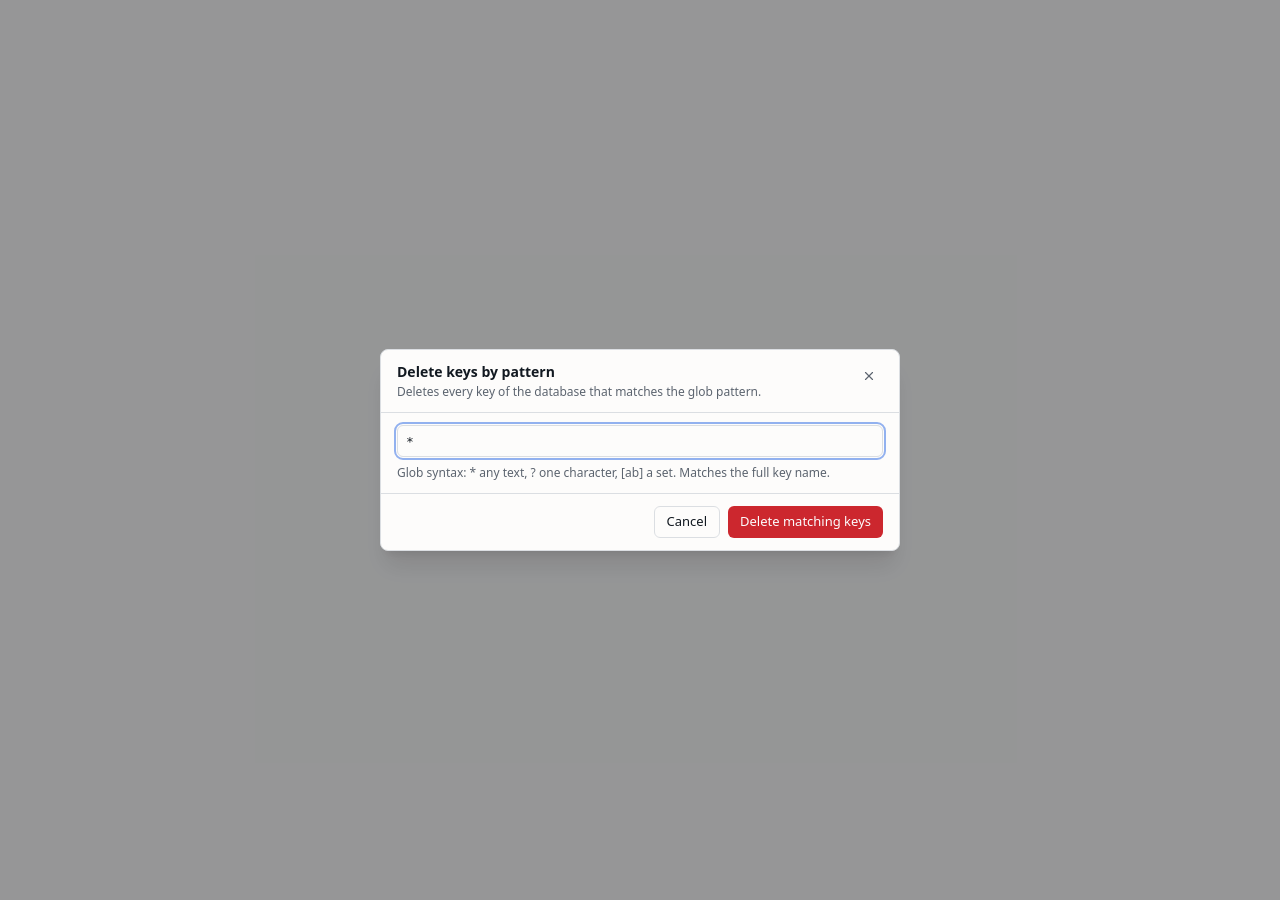
it: DeleteByPatternDialog › suggests * on a database and blocks an empty pattern
This screenshot has width=1280, height=900.
Clear the field named "Pattern". click: (640, 441)
box: [397,425,883,457]
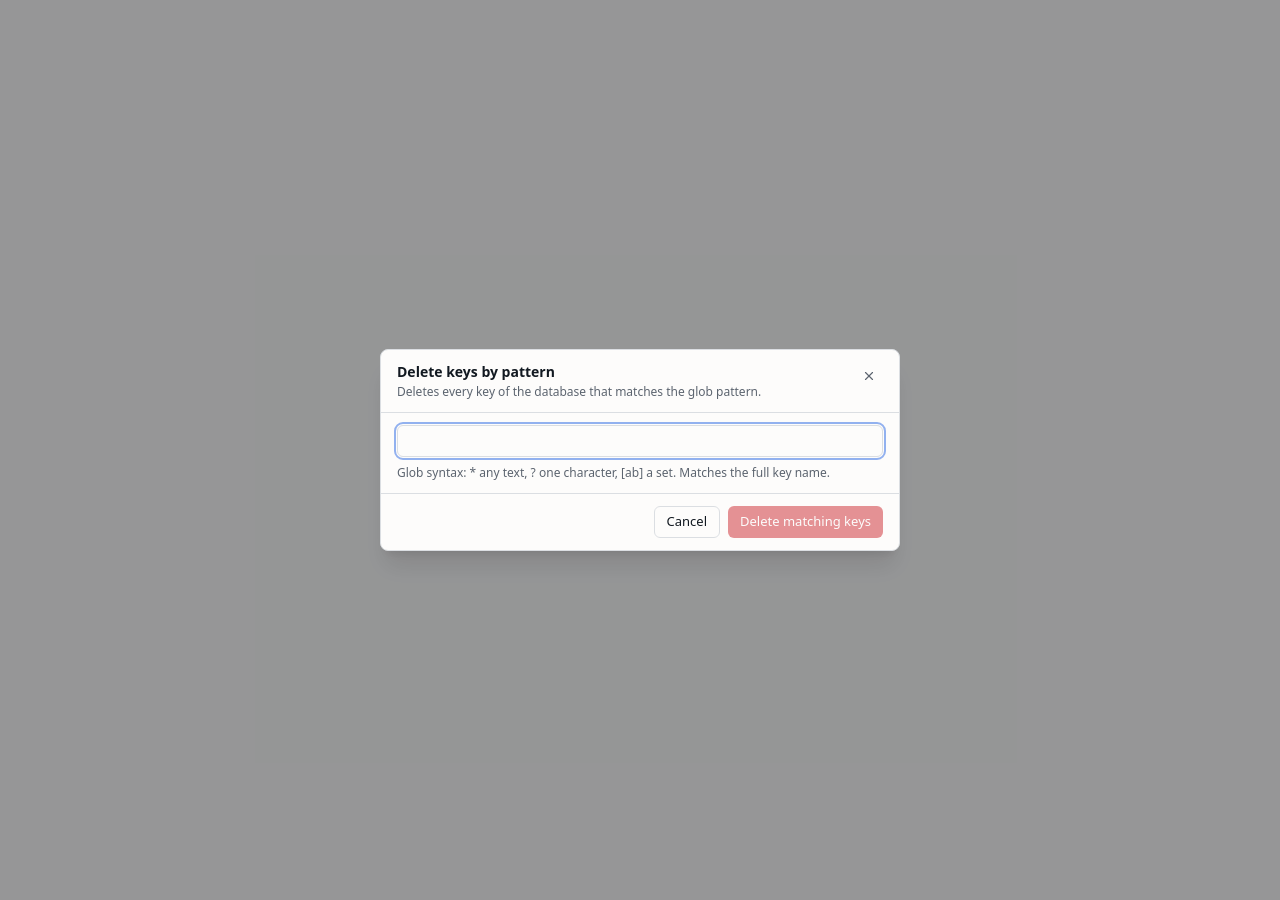
Check: the button "Delete matching keys" is disabled, box [728,506,883,538]
